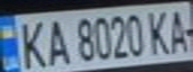0: (124, 10, 148, 58), (90, 12, 112, 61)
2: (109, 11, 130, 61)
8: (72, 14, 96, 63)
A: (163, 4, 193, 54), (42, 16, 69, 69)
K: (12, 16, 48, 70), (145, 7, 175, 56)
